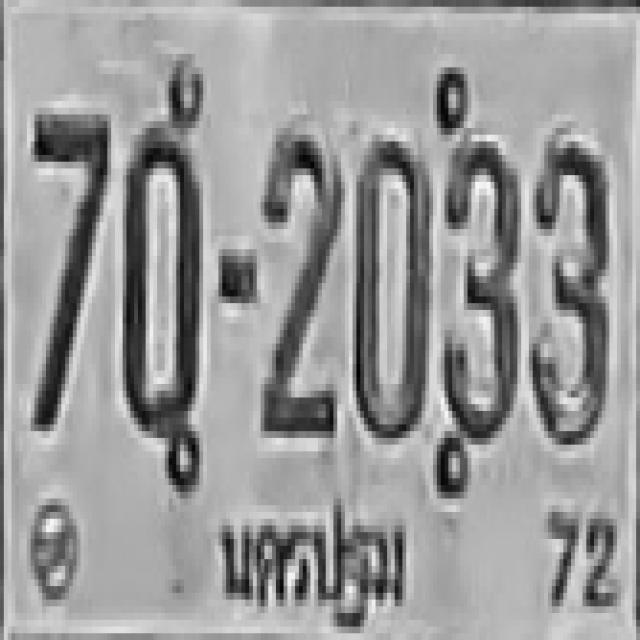0: (119, 108, 199, 438), (353, 135, 429, 438)
2: (259, 128, 339, 438)
3: (437, 134, 517, 444), (525, 135, 606, 438)
7: (31, 108, 107, 424)
NakhonPathom: (208, 493, 416, 635)
